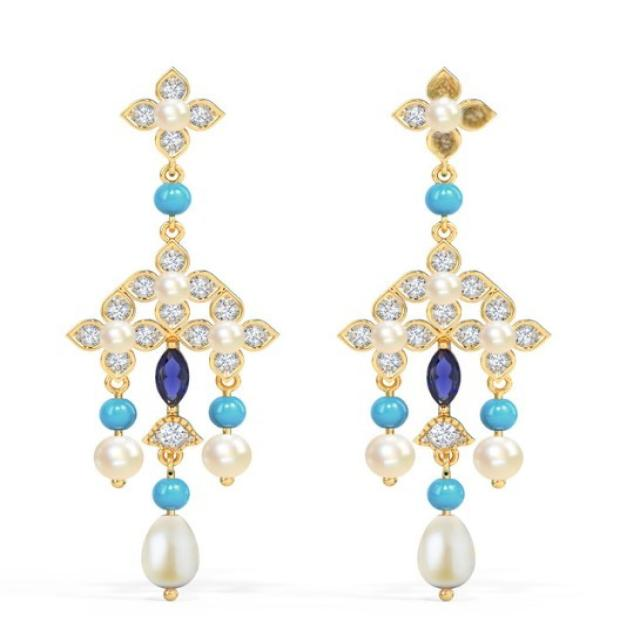missing gem: (429, 68, 462, 99), (461, 102, 492, 129), (434, 130, 459, 159)
